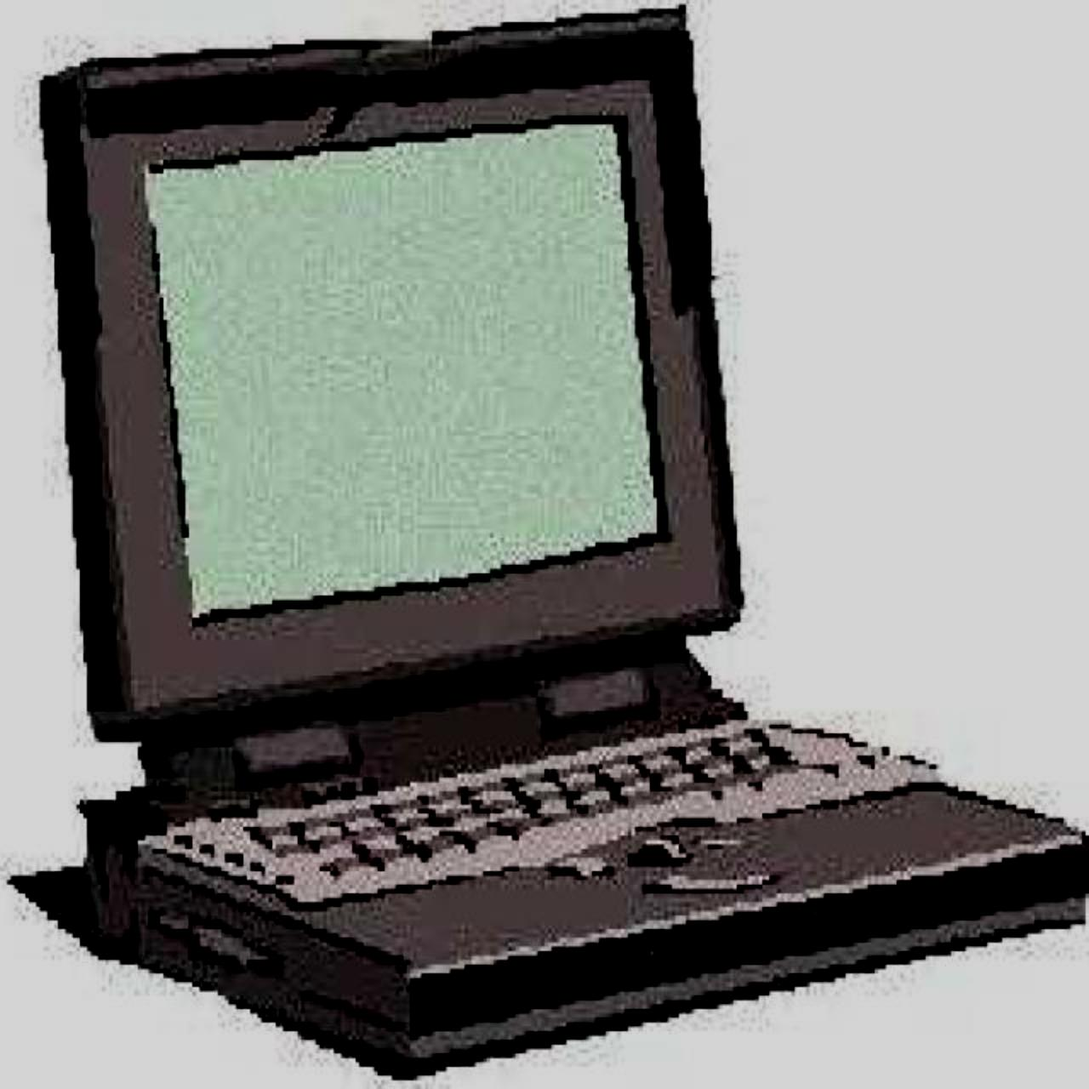laptop: (67, 5, 1080, 1029)
